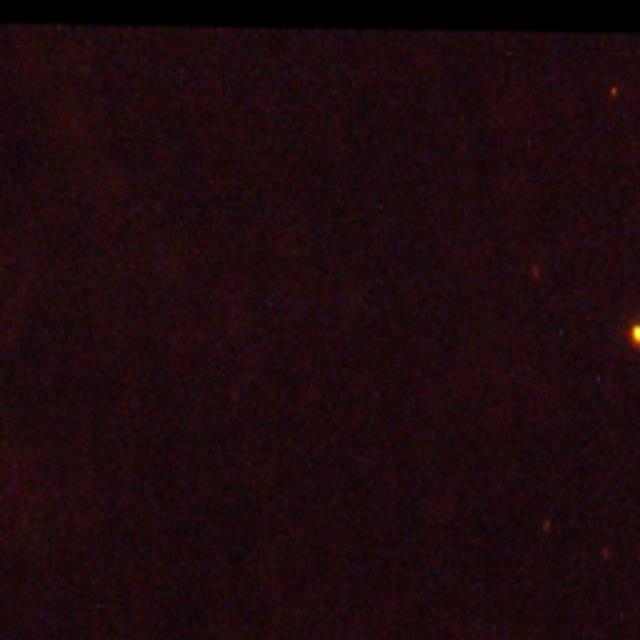Fragment: (628, 322, 638, 348)
